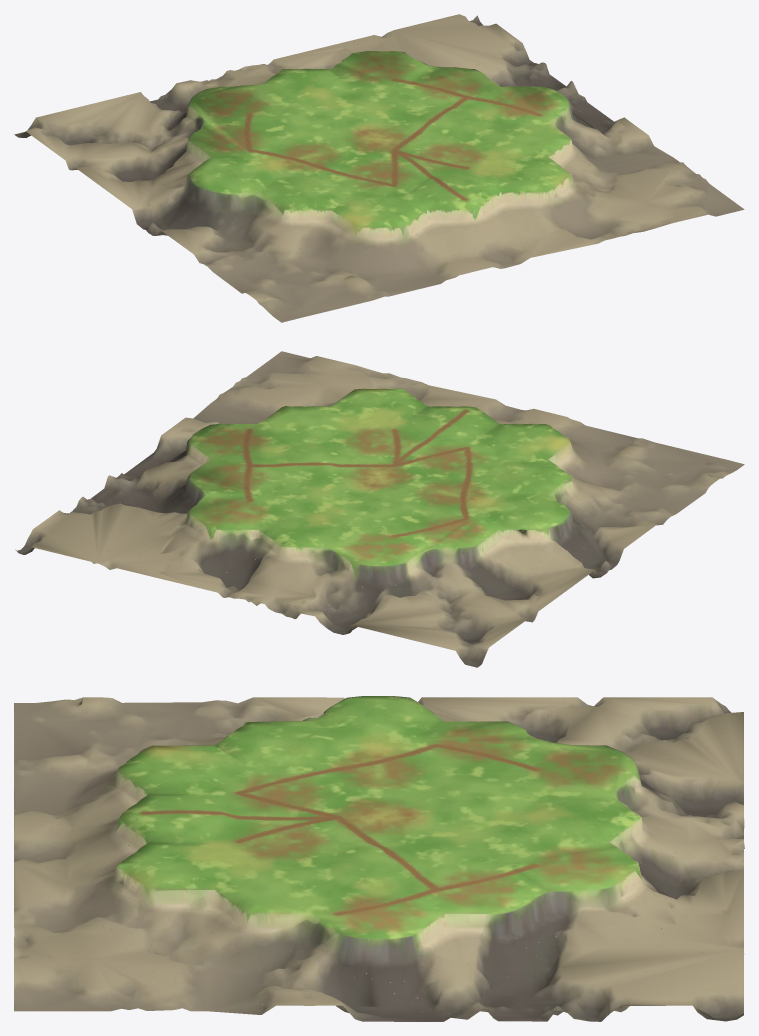
Rendered from terrain-wild.glb.
3 renders of one model, top to bottom at view 1: azimuth 30°, elevation 25°; view 2: azimuth 150°, elevation 25°; view 3: azimuth 270°, elevation 25°, orthographic. The views are drawn at different scales.
Parts seen in each view (by area): view 1: terrain-wild; view 2: terrain-wild; view 3: terrain-wild.
Boxes of the visible parts, bbox=[...] form: terrain-wild: bbox=[14, 14, 744, 322]; terrain-wild: bbox=[15, 351, 744, 667]; terrain-wild: bbox=[14, 696, 744, 1021].
Bounding box in the file's own units: 12.81 × 1.07 × 12.82.
1 material, 1 textured.
